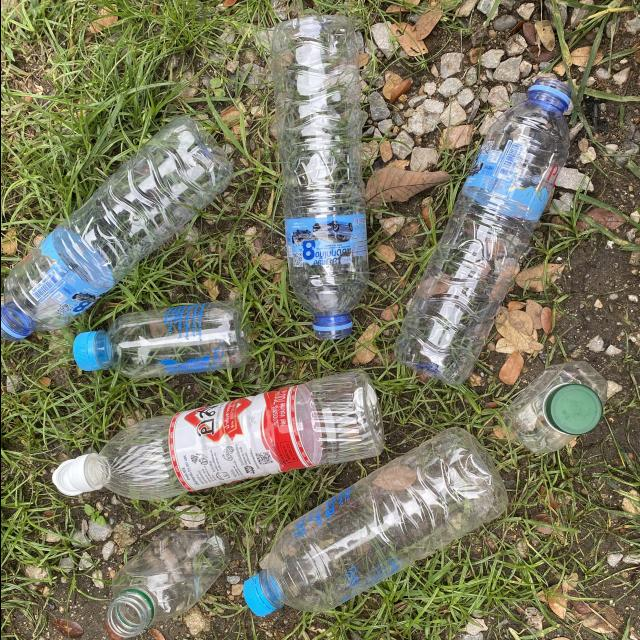plastik: (393, 76, 571, 385), (0, 116, 233, 341), (242, 427, 506, 616), (52, 370, 384, 500), (272, 14, 367, 339), (72, 300, 250, 378), (106, 531, 227, 637), (502, 361, 606, 454)
